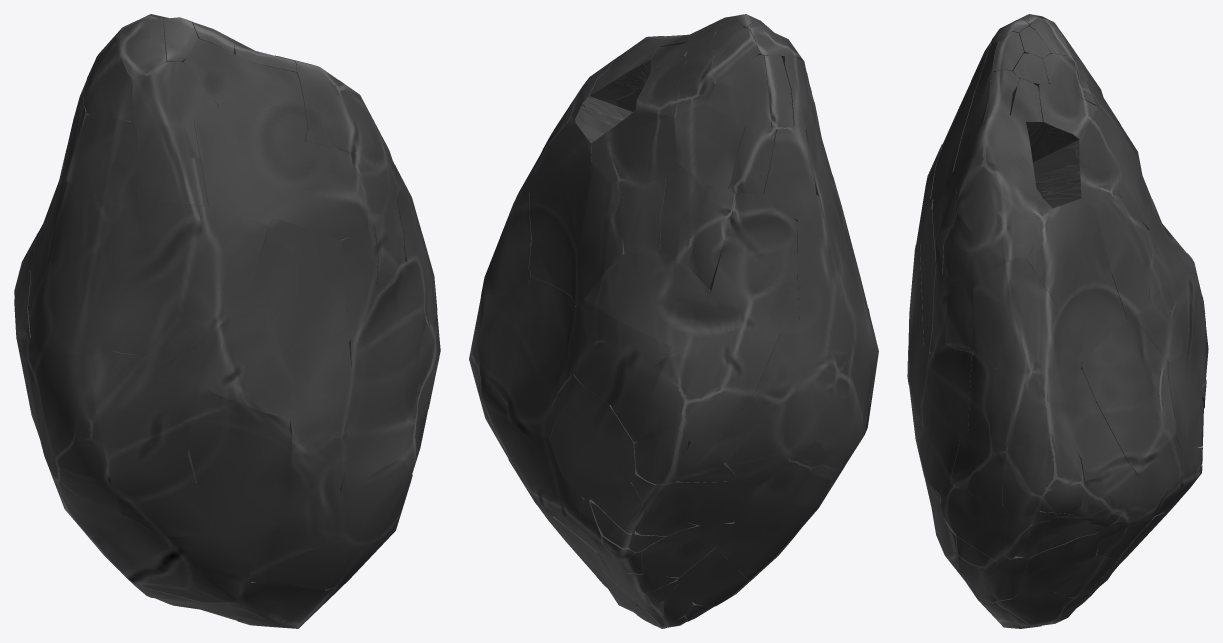
3 views of the same model, side by side, from view 1: azimuth 30°, elevation 25°; view 2: azimuth 150°, elevation 25°; view 3: azimuth 270°, elevation 25° (orthographic). The views are drawn at different scales.
Visible parts, largest first — view 1: Object_2_cell.018, Object_2_cell.057, Object_2_cell.011, Object_2_cell.068, Object_2_cell.077, Object_2_cell.004, Object_2_cell.099, Object_2_cell.078, Object_2_cell.046, Object_2_cell.065, Object_2_cell.029, Object_2_cell.056 (+27 smaller); view 2: Object_2_cell.082, Object_2_cell.022, Object_2_cell.093, Object_2_cell.068, Object_2_cell.059, Object_2_cell.016, Object_2_cell.058, Object_2_cell.009, Object_2_cell.023, Object_2_cell.054, Object_2_cell.099, Object_2_cell.072 (+40 smaller); view 3: Object_2_cell.059, Object_2_cell.016, Object_2_cell.050, Object_2_cell.026, Object_2_cell.075, Object_2_cell.072, Object_2_cell.010, Object_2_cell.023, Object_2_cell.063, Object_2_cell.045, Object_2_cell.024, Object_2_cell.056 (+42 smaller).
Boxes of the visible parts, x1,y1,x2,y2 form: Object_2_cell.018: (114, 197, 269, 362); Object_2_cell.057: (89, 351, 208, 536); Object_2_cell.011: (172, 374, 292, 548); Object_2_cell.068: (28, 179, 128, 356); Object_2_cell.077: (163, 296, 334, 419); Object_2_cell.004: (249, 457, 412, 589); Object_2_cell.099: (25, 337, 122, 514); Object_2_cell.078: (250, 219, 348, 345); Object_2_cell.046: (92, 531, 251, 602); Object_2_cell.065: (288, 341, 351, 519); Object_2_cell.029: (194, 106, 287, 225); Object_2_cell.056: (339, 339, 409, 491); Object_2_cell.082: (712, 333, 837, 485); Object_2_cell.022: (709, 192, 799, 336); Object_2_cell.093: (584, 250, 731, 348); Object_2_cell.068: (793, 175, 868, 354); Object_2_cell.059: (528, 119, 603, 295); Object_2_cell.016: (507, 277, 575, 441); Object_2_cell.058: (549, 375, 637, 500); Object_2_cell.009: (678, 331, 778, 447); Object_2_cell.023: (574, 299, 678, 405); Object_2_cell.054: (735, 440, 844, 533); Object_2_cell.099: (815, 311, 878, 465); Object_2_cell.072: (590, 109, 676, 190); Object_2_cell.059: (1026, 198, 1126, 363); Object_2_cell.016: (1081, 318, 1176, 476); Object_2_cell.050: (972, 259, 1076, 368); Object_2_cell.026: (956, 157, 1052, 262); Object_2_cell.075: (989, 360, 1081, 446); Object_2_cell.072: (1033, 107, 1119, 208); Object_2_cell.010: (1093, 193, 1151, 319); Object_2_cell.023: (1138, 253, 1195, 361); Object_2_cell.063: (1066, 369, 1127, 481); Object_2_cell.045: (940, 482, 1011, 563); Object_2_cell.024: (1029, 83, 1097, 162); Object_2_cell.056: (922, 352, 959, 495).
Size of the model in its own units: 0.6736 by 1.04 by 0.5049.
1 material, 1 textured.
